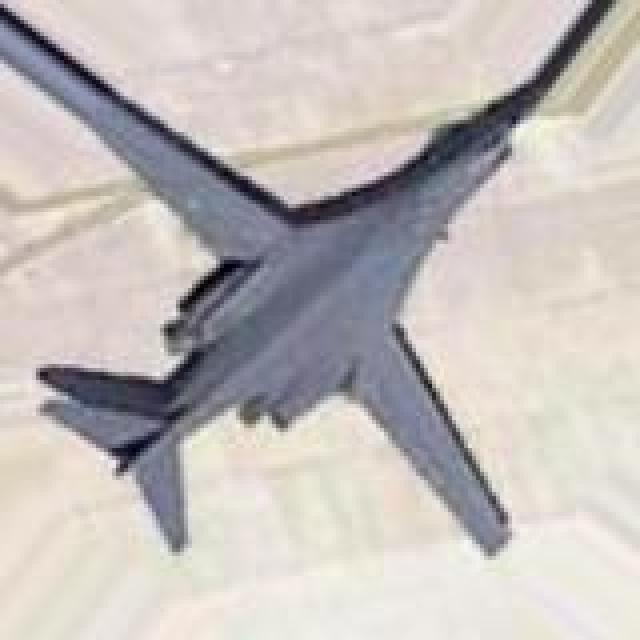B-1_TopDown: (0, 0, 636, 560)
